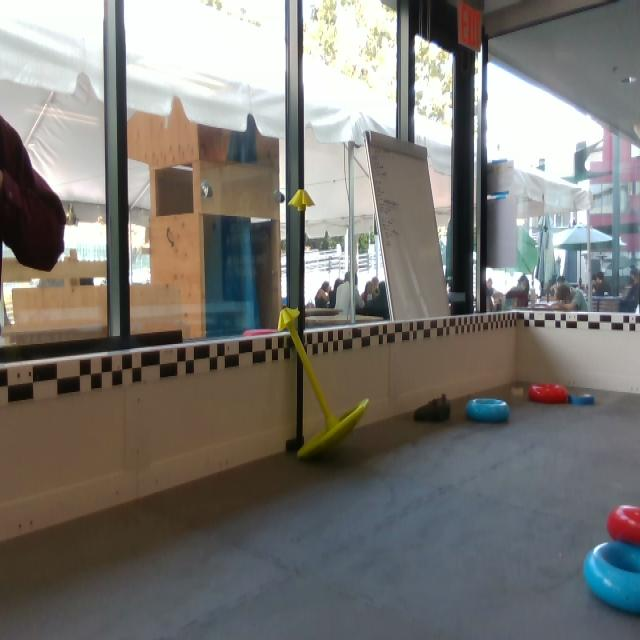Blue-Ring: (583, 541, 639, 615), (466, 396, 510, 424)
Mobile-Goal: (277, 307, 369, 463)
Red-Ring: (607, 505, 639, 549), (528, 384, 569, 401)
Yellow-Stake-Head: (278, 306, 300, 331), (288, 190, 315, 208)
